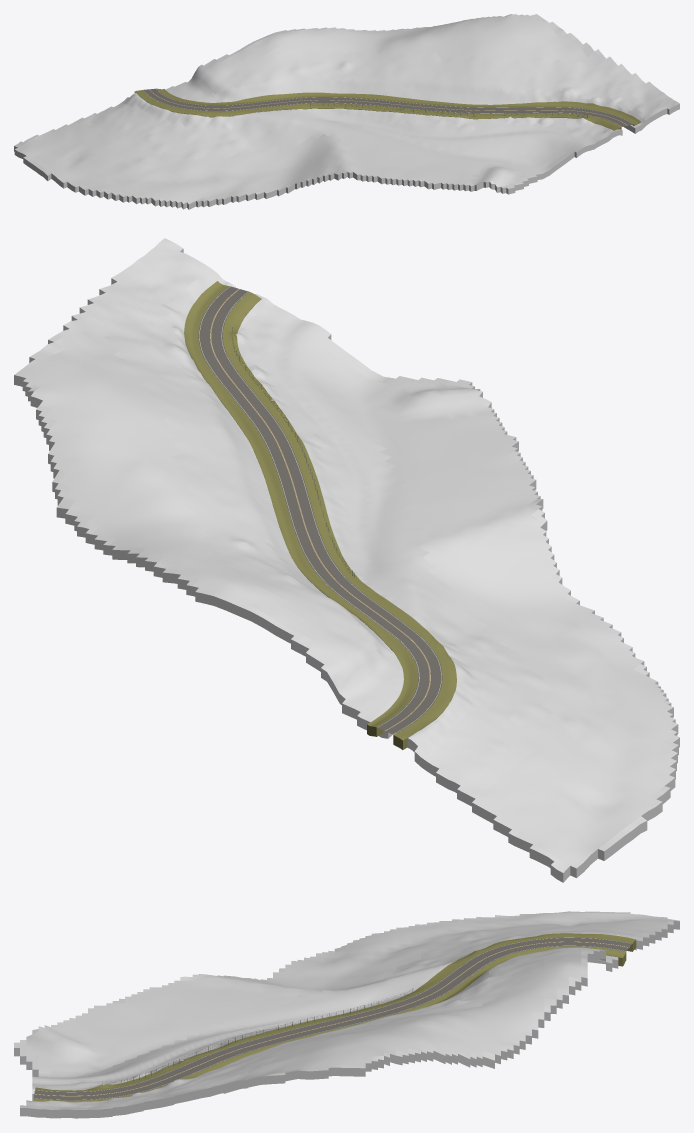
The model's file is conz_57.glb.
3 renders of one model, top to bottom at view 1: azimuth 30°, elevation 25°; view 2: azimuth 150°, elevation 25°; view 3: azimuth 270°, elevation 25°, orthographic. The views are drawn at different scales.
Visible parts, largest first — view 1: terrain57, road57, verge57L, verge57R, paint_yellow57; view 2: terrain57, road57, verge57R, verge57L, paint_white57; view 3: terrain57, road57, verge57L, verge57R, paint_white57, paint_yellow57, posts_wire57_41080.
Part boxes in pixels (x1,y1,x2,y2): terrain57: (14,14,679,209); road57: (143,88,633,126); verge57L: (134,90,621,130); verge57R: (156,88,640,125); paint_yellow57: (149,89,627,125); terrain57: (14,238,679,882); road57: (198,286,442,734); verge57R: (184,281,418,736); verge57L: (222,292,456,749); paint_white57: (199,286,441,733); terrain57: (14,911,679,1118); road57: (34,937,631,1100); verge57L: (35,933,636,1091); verge57R: (33,946,626,1102); paint_white57: (35,937,630,1099); paint_yellow57: (35,941,629,1096); posts_wire57_41080: (102,988,413,1086).
Bounding box in the file's own units: 256 × 60.49 × 216.
